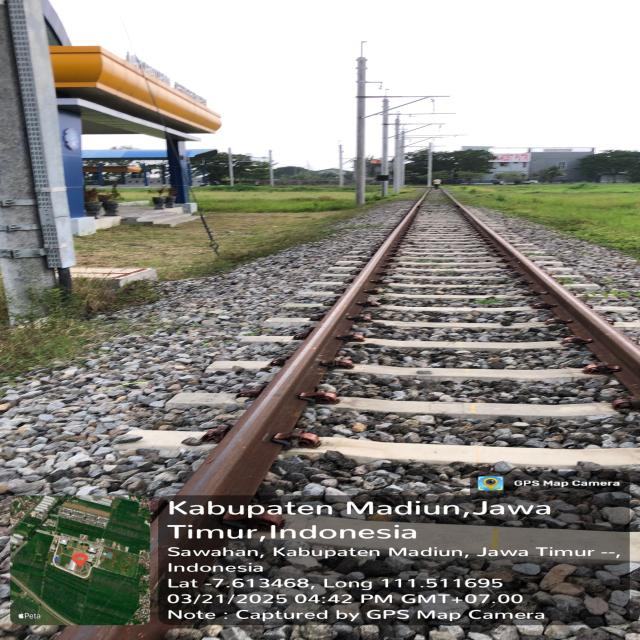rail-detection: (179, 196, 424, 495), (453, 200, 640, 398)
